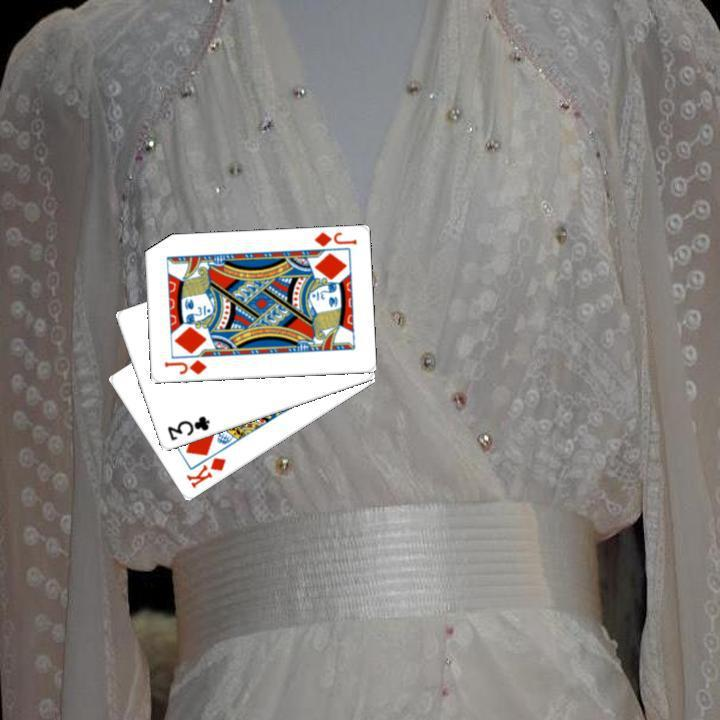3: (162, 412, 212, 443)
J: (160, 356, 209, 377), (309, 228, 358, 249)
K: (182, 453, 228, 490)
